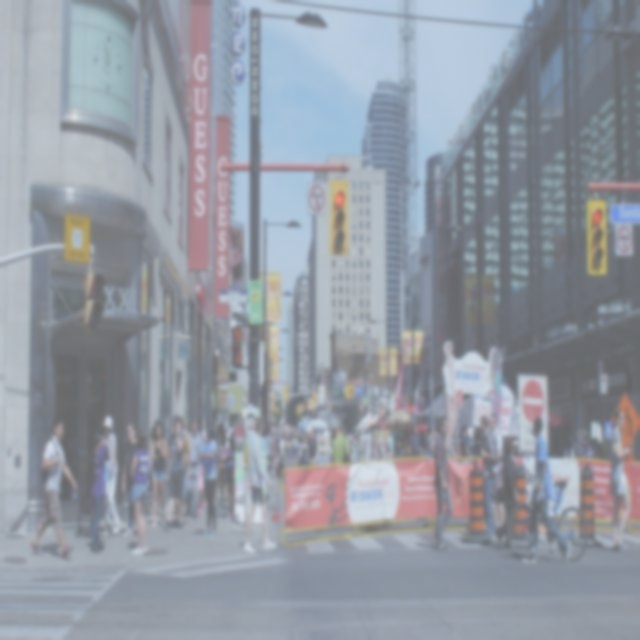pessoa: (520, 415, 572, 565), (29, 414, 77, 561), (243, 415, 278, 555), (607, 407, 632, 554), (160, 412, 186, 532), (432, 413, 454, 552), (494, 435, 520, 550), (99, 416, 122, 538), (478, 414, 499, 546), (130, 428, 151, 558), (89, 428, 109, 556), (442, 340, 463, 458), (198, 422, 218, 540), (172, 415, 192, 527), (489, 412, 506, 534), (185, 416, 204, 520), (150, 420, 168, 529), (122, 422, 138, 538), (485, 346, 504, 434), (218, 430, 235, 520), (150, 419, 165, 517), (268, 424, 312, 451), (213, 422, 226, 508), (266, 450, 302, 479), (331, 420, 354, 464), (192, 458, 204, 516), (314, 424, 339, 447), (264, 426, 274, 481), (408, 425, 424, 458), (316, 436, 332, 466), (306, 428, 318, 466), (461, 424, 471, 464), (469, 282, 479, 321), (578, 435, 594, 459), (471, 426, 482, 460), (197, 416, 208, 449), (364, 428, 374, 462), (300, 434, 310, 466), (353, 428, 362, 463), (372, 430, 382, 460), (273, 455, 285, 478), (223, 425, 234, 450), (358, 428, 366, 462), (431, 428, 440, 458), (426, 426, 434, 459), (322, 430, 332, 456), (564, 436, 575, 459), (296, 436, 303, 467), (387, 428, 394, 458), (394, 432, 402, 458), (404, 337, 412, 362), (289, 436, 295, 464), (293, 434, 299, 462), (590, 440, 598, 460), (350, 432, 355, 463), (274, 437, 280, 462), (347, 433, 353, 458), (401, 438, 408, 458), (382, 351, 388, 374), (571, 440, 578, 458), (212, 418, 217, 440), (182, 416, 188, 434), (283, 436, 287, 460), (306, 450, 311, 467), (280, 436, 286, 450), (286, 438, 290, 459), (314, 429, 318, 442), (186, 426, 192, 434), (344, 432, 348, 439)
